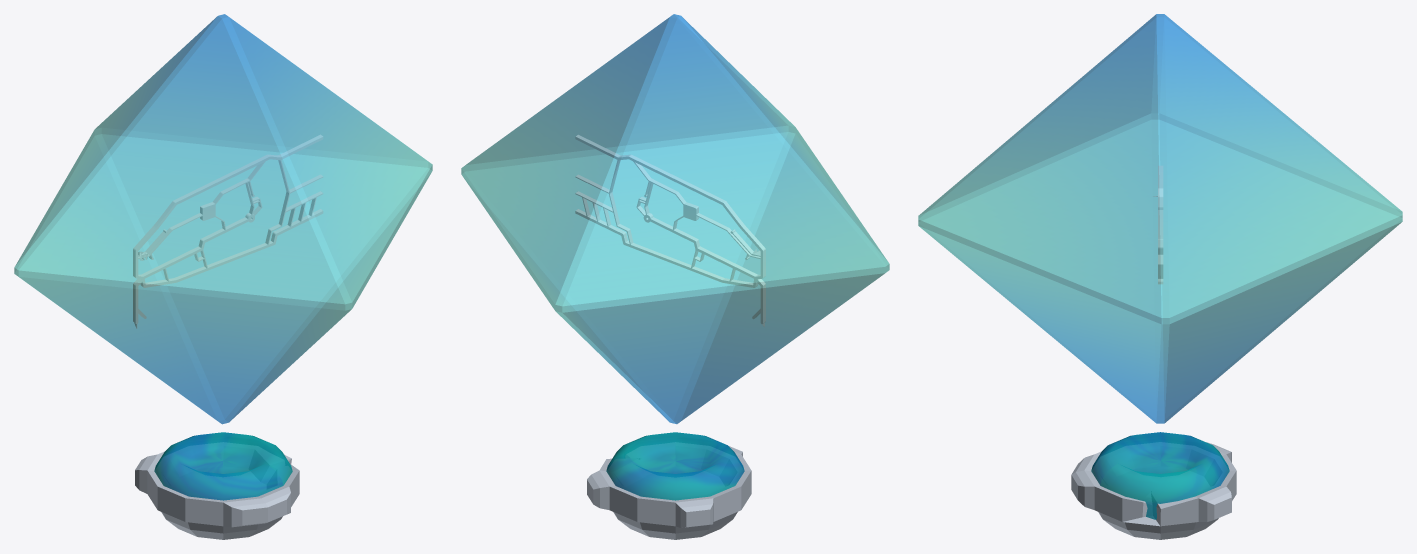
File: ParkItemsAndLight.fbx
3 renders of one model, left to right at view 1: azimuth 30°, elevation 25°; view 2: azimuth 150°, elevation 25°; view 3: azimuth 270°, elevation 25°, orthographic.
Visible parts, largest first — view 1: ParkCrystal, ParkProjector, ParkSnake; view 2: ParkCrystal, ParkProjector, ParkSnake; view 3: ParkCrystal, ParkProjector, ParkSnake.
Boxes of the visible parts, <box> form: ParkCrystal: <box>14,14,432,424</box>; ParkProjector: <box>135,432,299,539</box>; ParkSnake: <box>133,134,323,328</box>; ParkCrystal: <box>461,14,889,424</box>; ParkProjector: <box>587,432,751,539</box>; ParkSnake: <box>575,135,765,326</box>; ParkCrystal: <box>918,14,1402,423</box>; ParkProjector: <box>1071,432,1236,539</box>; ParkSnake: <box>1153,165,1163,284</box>.
Size of the model in its own units: 1.77 by 2.02 by 1.77.
4 materials, 2 textured.
